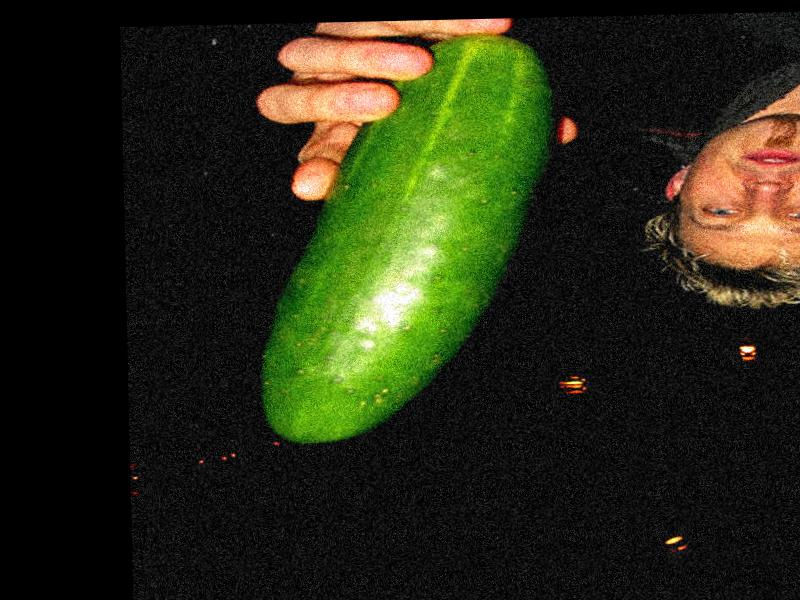Cucumber: (252, 36, 555, 442)
